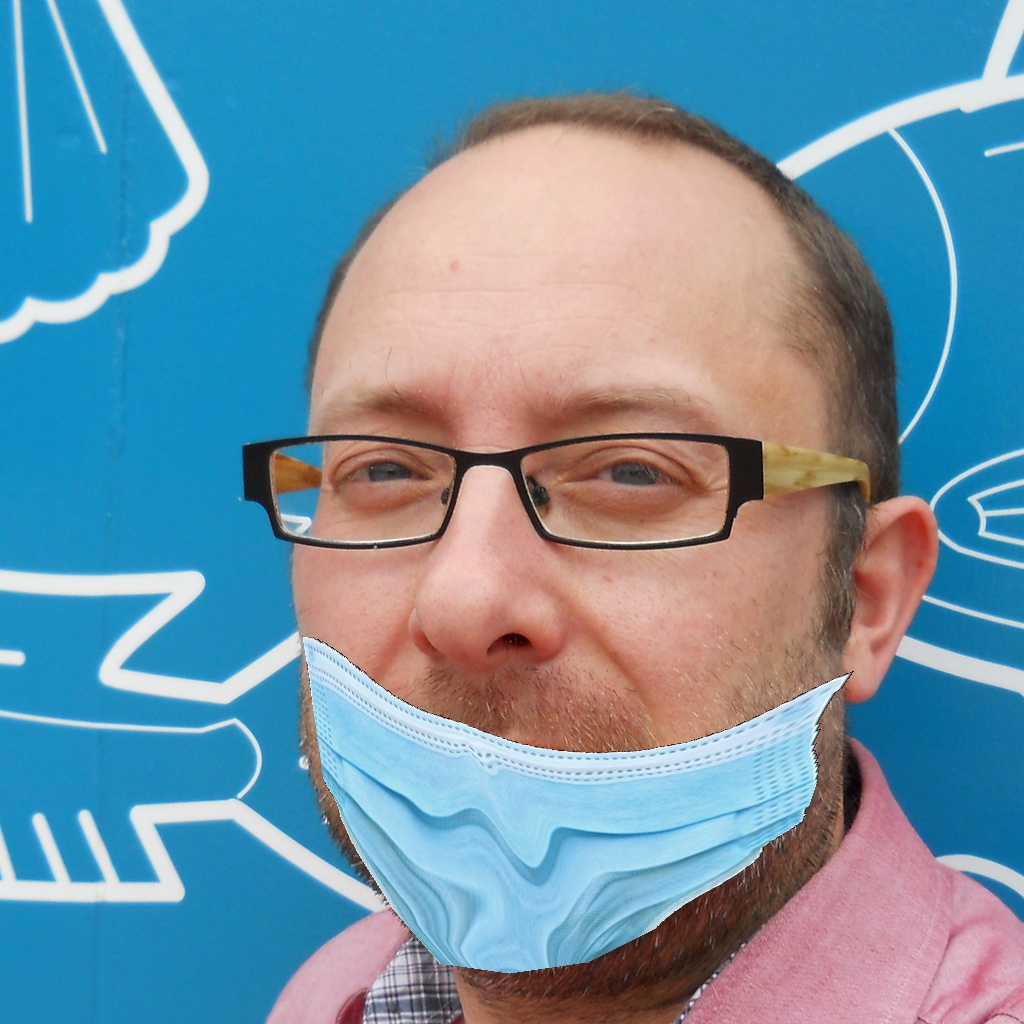mascarilla_mal_puesta: (287, 348, 897, 988)
